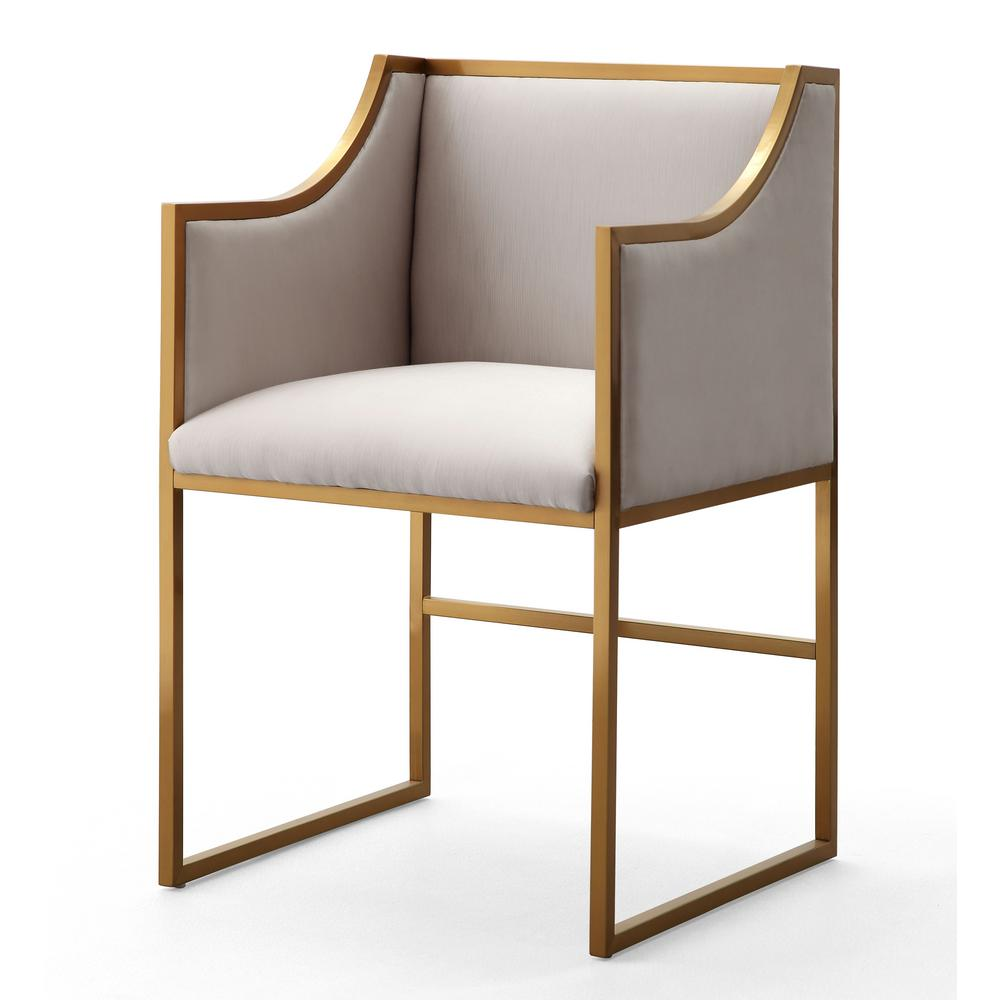chairs: (120, 56, 839, 958)
